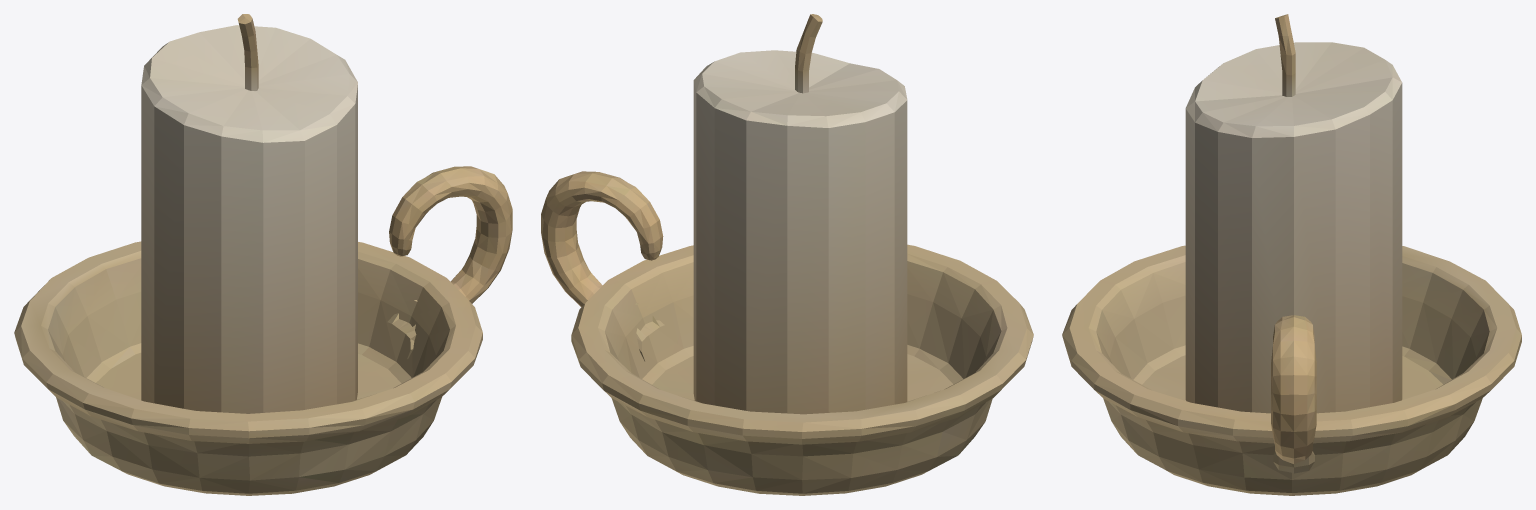
The model's file is candle.glb.
3 renders of one model, left to right at view 1: azimuth 30°, elevation 25°; view 2: azimuth 150°, elevation 25°; view 3: azimuth 270°, elevation 25°, orthographic.
Visible parts, largest first — view 1: geometry_0; view 2: geometry_0; view 3: geometry_0.
Boxes of the visible parts, bbox=[...] form: geometry_0: bbox=[14, 14, 512, 495]; geometry_0: bbox=[541, 14, 1033, 495]; geometry_0: bbox=[1062, 14, 1521, 495].
Bounding box in the file's own units: 0.1353 × 0.1152 × 0.1182.
